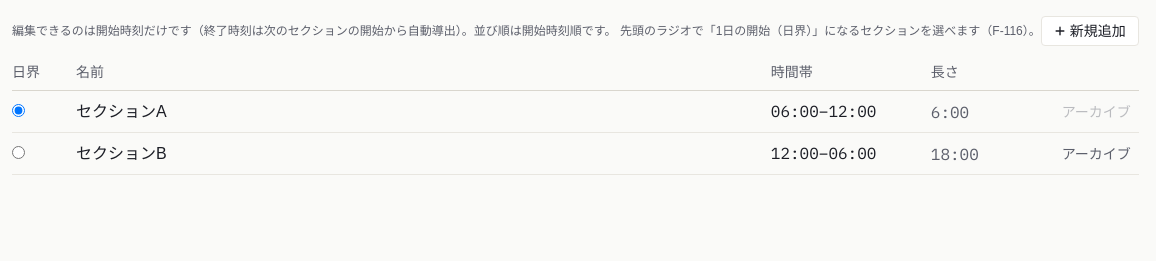
it: SectionsTable（画面定義書03 §3.1: 開始時刻・日界の選択・終了時刻は導出） › インライン編集（画面定義書03 §4「編集方式」/ 00_共通 §2.3） › 失敗したらメッセージを出し、編集状態のまま残す（入力し直せる）
Step 1. Click the button "06:00–12:00" → (824, 111), box [771,99,876,123]
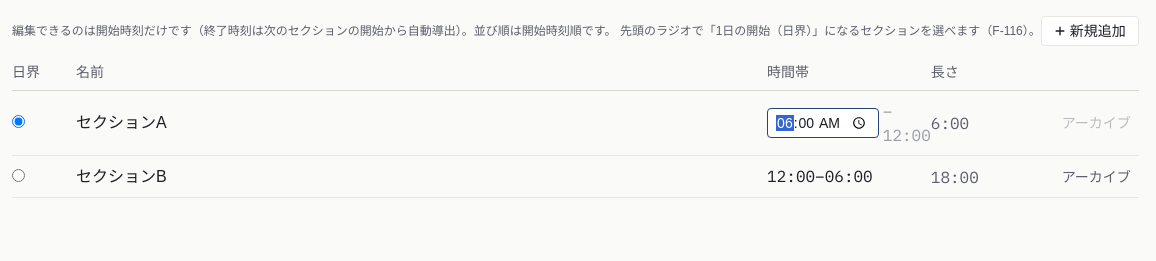
Step 2. Replace the text in the time field showing "06:00" with "12:00" → (823, 123), box [767,108,879,138]
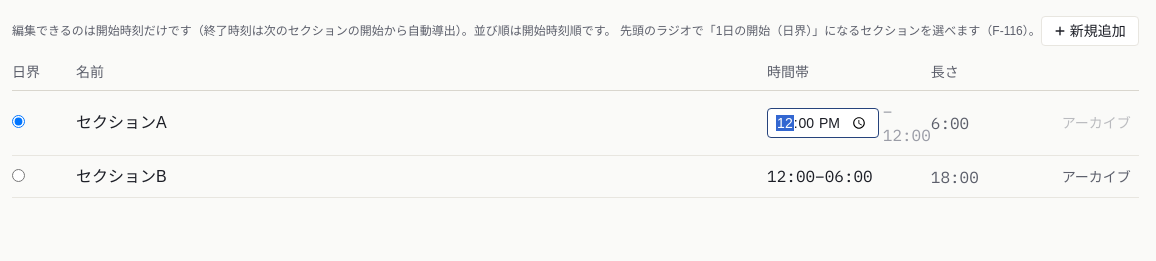
Step 3. Leave the time field showing "06:00", box [767,108,879,138]
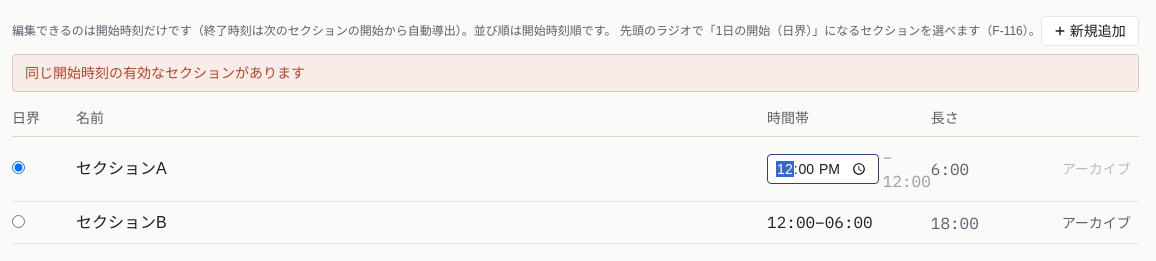
Result: the text "同じ開始時刻の有効なセクションがあります" is shown at [12,54,1139,92]
